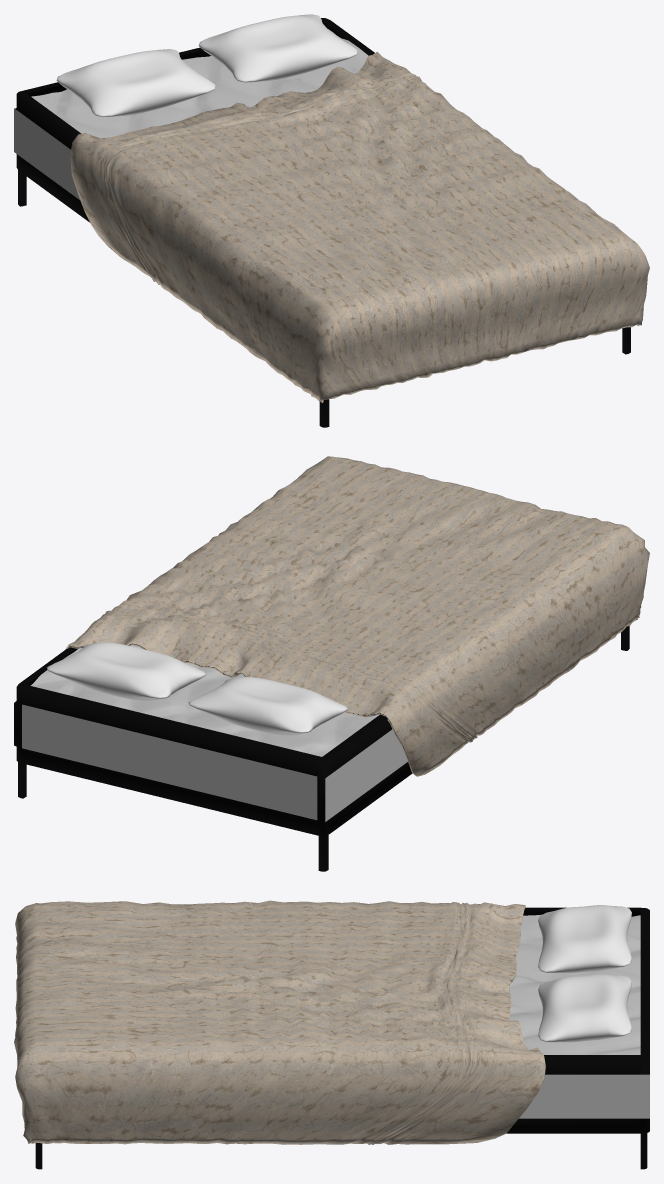
The model's file is bed.glb.
3 renders of one model, top to bottom at view 1: azimuth 30°, elevation 25°; view 2: azimuth 150°, elevation 25°; view 3: azimuth 270°, elevation 25°, orthographic.
Visible parts, largest first — view 1: Cube.001; view 2: Cube.001; view 3: Cube.001.
Part boxes in pixels (x1,y1,x2,y2): Cube.001: (14,14,649,427); Cube.001: (14,456,649,871); Cube.001: (14,900,649,1169).
Size of the model in its own units: 1.07 by 0.4258 by 1.77.
Materials: 4 (1 with a texture image).
